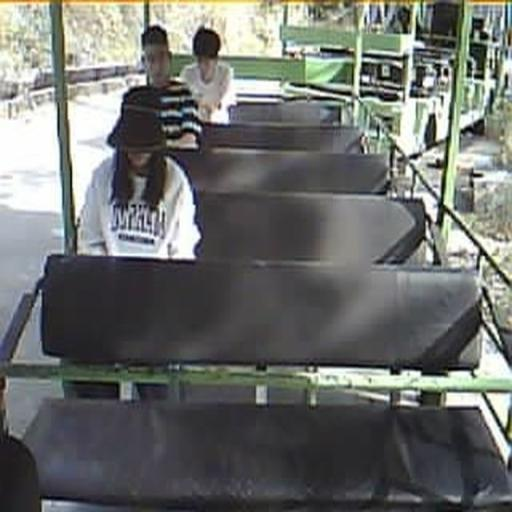persona: (76, 100, 204, 260), (108, 24, 205, 152), (178, 26, 236, 124)
